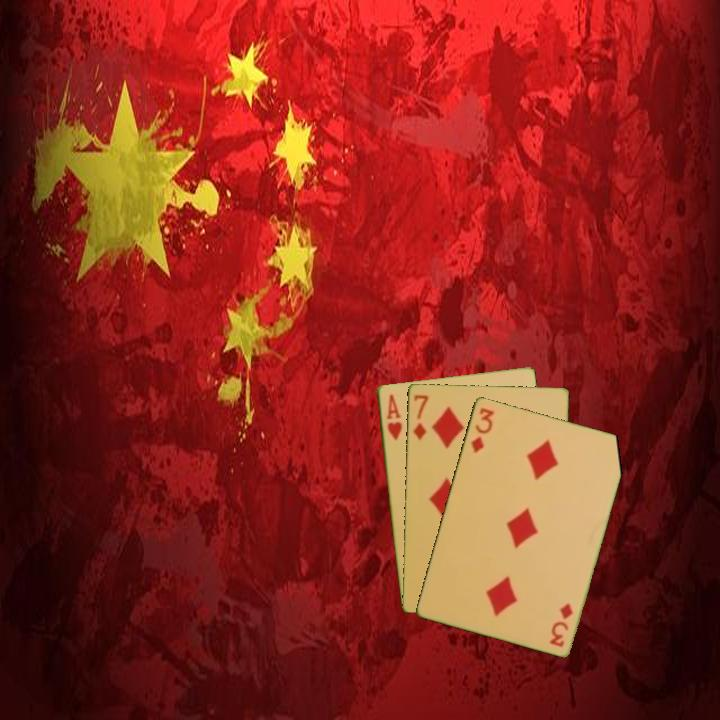3d: (467, 404, 497, 456), (546, 599, 575, 649)
7d: (409, 391, 431, 443)
Ah: (382, 390, 404, 443)
